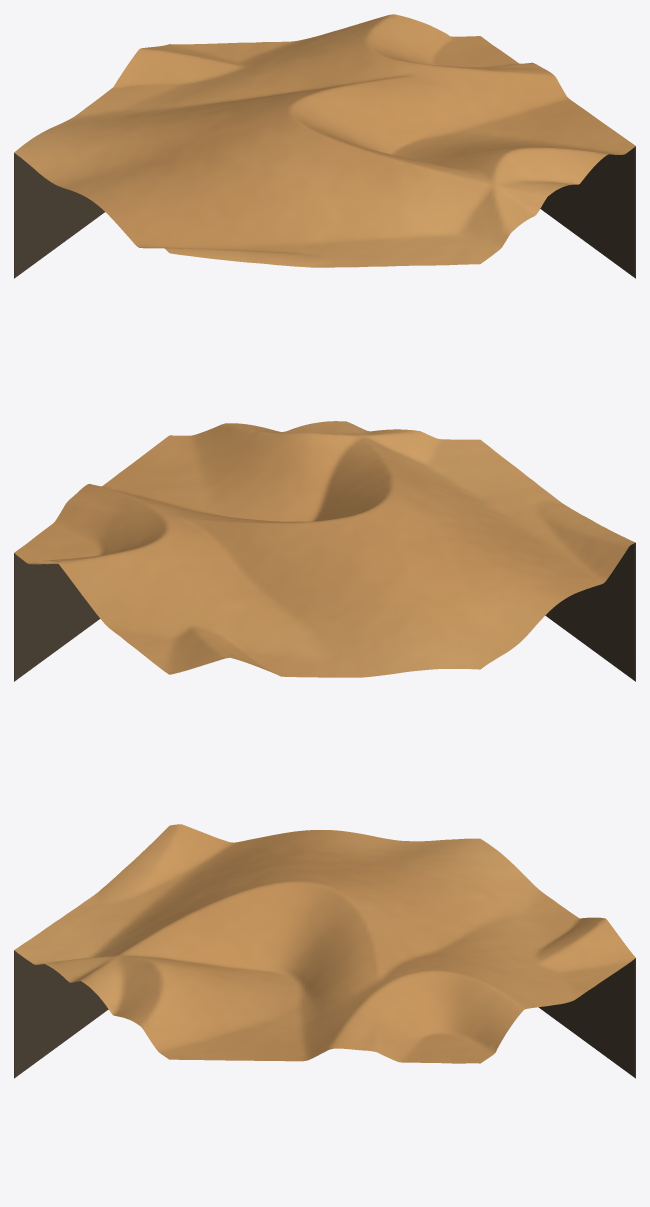
The picture shows the model from 3 angles, top to bottom: view 1: azimuth 30°, elevation 25°; view 2: azimuth 150°, elevation 25°; view 3: azimuth 270°, elevation 25°; orthographic projection.
Parts seen in each view (by area): view 1: terrain, hex_side_cut; view 2: terrain, hex_side_cut; view 3: terrain, hex_side_cut.
Part boxes in pixels (x1=…): terrain: x1=14, y1=14, x2=635, y2=267; hex_side_cut: x1=14, y1=146, x2=635, y2=278; terrain: x1=14, y1=421, x2=635, y2=677; hex_side_cut: x1=14, y1=542, x2=635, y2=681; terrain: x1=14, y1=824, x2=635, y2=1063; hex_side_cut: x1=14, y1=950, x2=635, y2=1078.
Bounding box in the file's own units: 4330 × 1570 × 5000.
